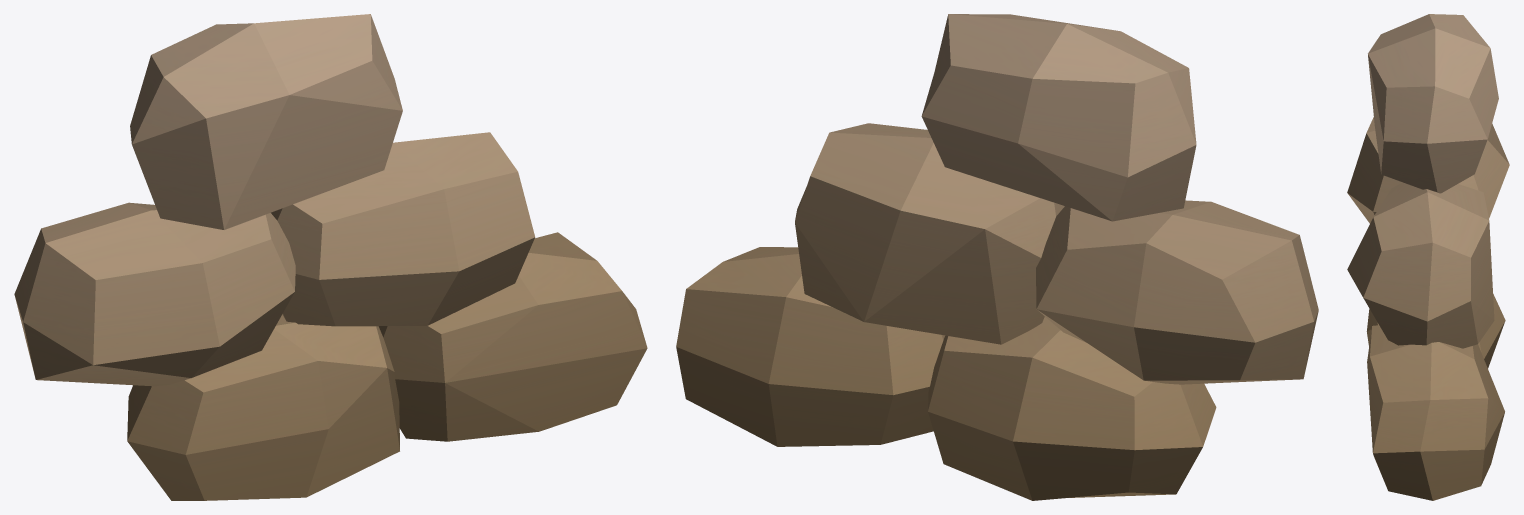
Rendered from SobbleStoneWall_03.fbx.
The picture shows the model from 3 angles, left to right: view 1: azimuth 30°, elevation 25°; view 2: azimuth 150°, elevation 25°; view 3: azimuth 270°, elevation 25°; orthographic projection. The views are drawn at different scales.
Parts seen in each view (by area): view 1: SobbleStoneWall_03; view 2: SobbleStoneWall_03; view 3: SobbleStoneWall_03.
Boxes of the visible parts, box(x1,y1,x2,y2) form: SobbleStoneWall_03: box(14, 14, 647, 500); SobbleStoneWall_03: box(676, 14, 1318, 500); SobbleStoneWall_03: box(1347, 14, 1509, 500).
Bounding box in the file's own units: 188 × 140 × 56.6.
